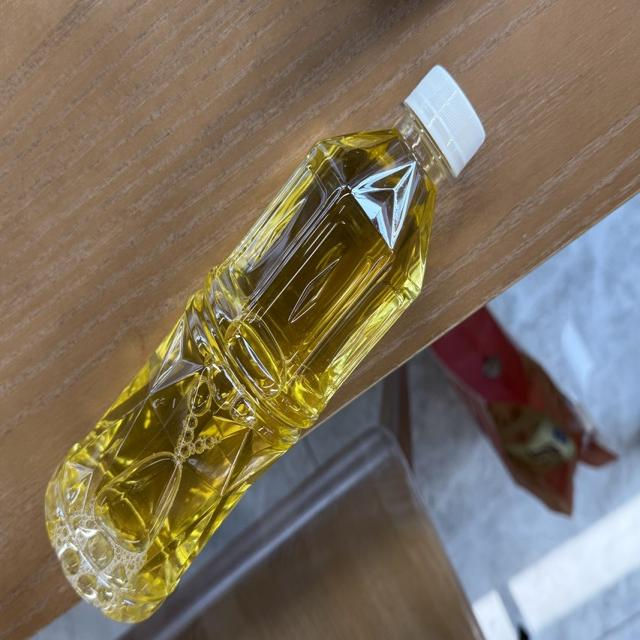high: (45, 66, 484, 621)
